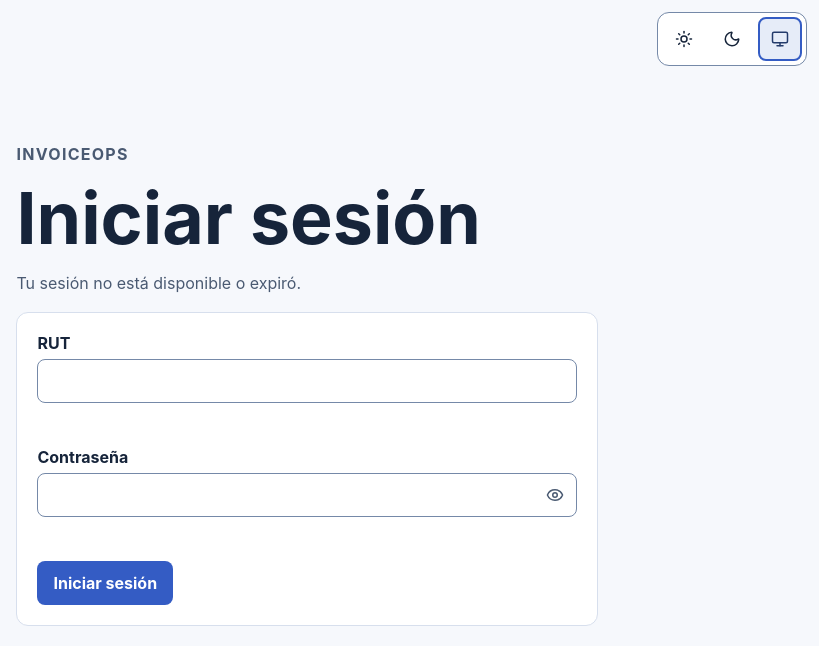
Test: AuthScreen closed access › shows the field error and focuses the RUT when the password is empty
The image size is (819, 646).
Step 1. Type "190347908" into the field labelled "RUT" → (307, 381), box [37,359,576,403]
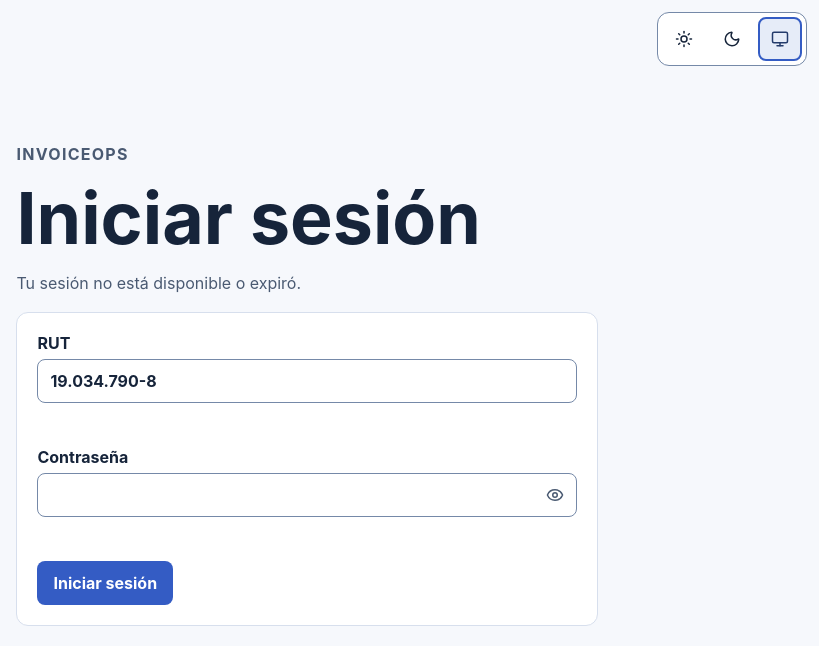
Step 2. Click the button "Iniciar sesión" → (105, 583), box [37,561,173,605]
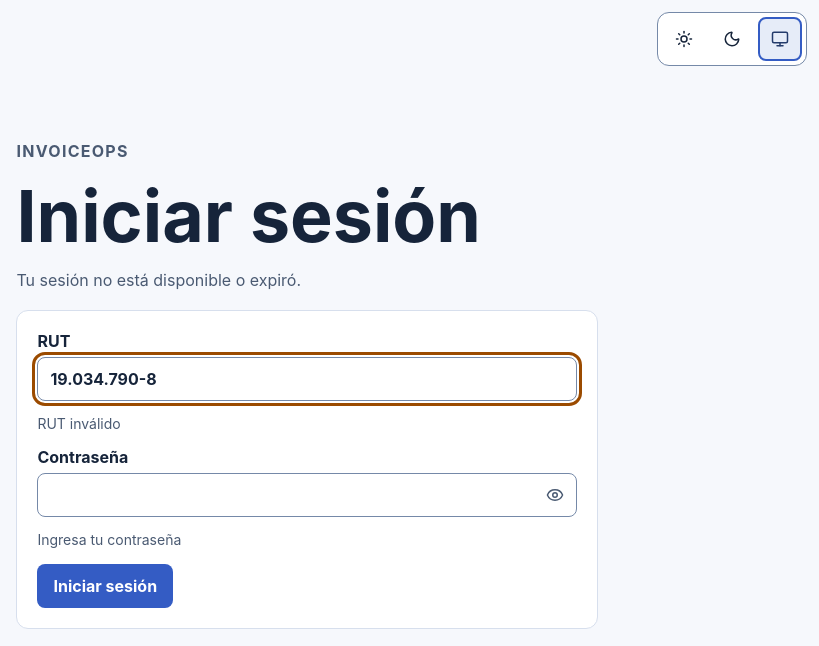
Expected: the text "Ingresa tu contraseña" is shown, [37,531,181,548]
